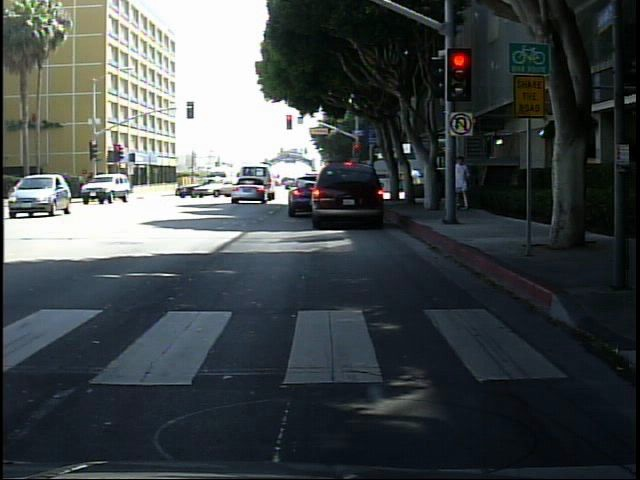person: (453, 153, 472, 219), (88, 171, 107, 204)
